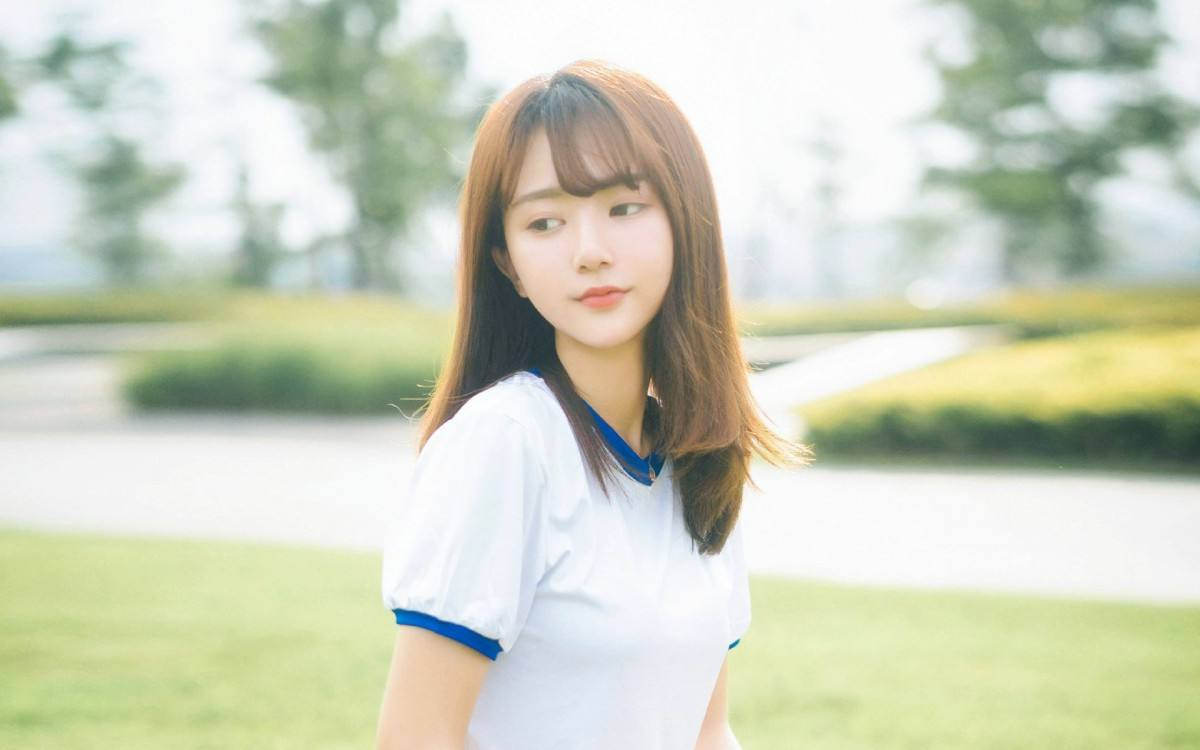person: (386, 52, 733, 750)
